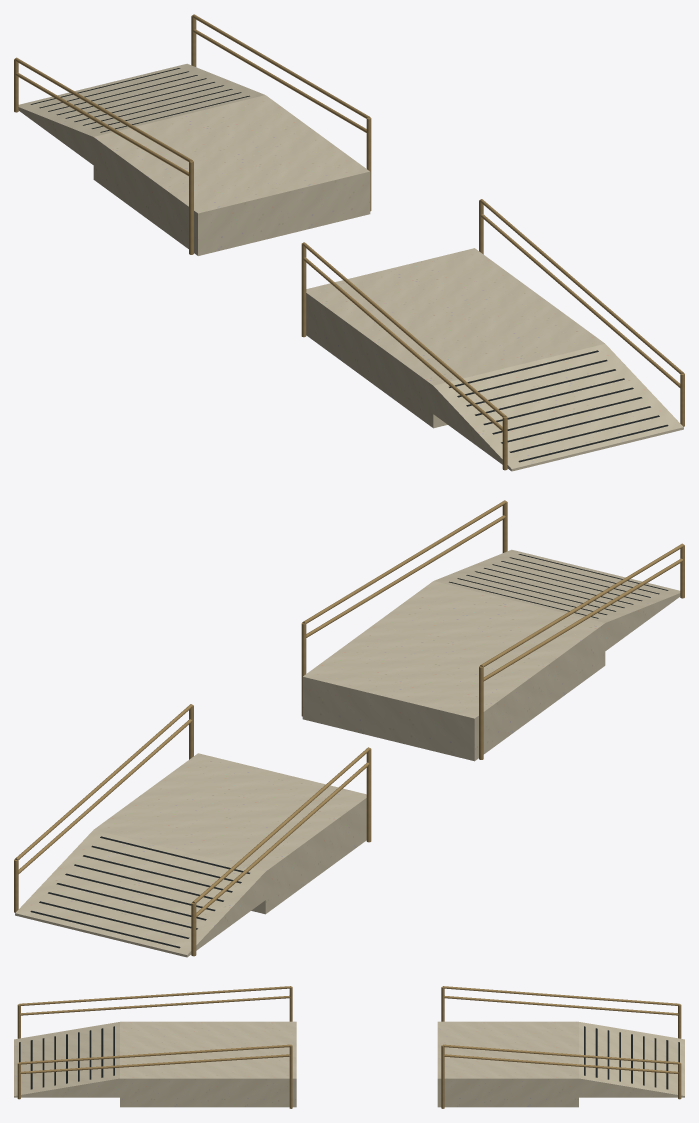
Rendered from Group6ThermalEntries_03_r002.glb.
The picture shows the model from 3 angles, top to bottom: view 1: azimuth 30°, elevation 25°; view 2: azimuth 150°, elevation 25°; view 3: azimuth 270°, elevation 25°; orthographic projection. The views are drawn at different scales.
Parts seen in each view (by area): view 1: G6_THERMAL_03__entry_0_dry_bridge, G6_THERMAL_03__entry_1_dry_bridge, G6_THERMAL_03__entry_1_continuous_path, G6_THERMAL_03__entry_0_continuous_path, G6_THERMAL_03__entry_1_handrail_-1_1.05, G6_THERMAL_03__entry_1_handrail_1_1.05, G6_THERMAL_03__entry_1_handrail_1_0.75, G6_THERMAL_03__entry_1_handrail_-1_0.75, G6_THERMAL_03__entry_0_handrail_1_1.05, G6_THERMAL_03__entry_0_handrail_-1_1.05, G6_THERMAL_03__entry_0_handrail_1_0.75, G6_THERMAL_03__entry_0_handrail_-1_0.75; view 2: G6_THERMAL_03__entry_1_dry_bridge, G6_THERMAL_03__entry_0_dry_bridge, G6_THERMAL_03__entry_0_continuous_path, G6_THERMAL_03__entry_1_continuous_path, G6_THERMAL_03__entry_1_handrail_-1_1.05, G6_THERMAL_03__entry_1_handrail_1_1.05, G6_THERMAL_03__entry_1_handrail_-1_0.75, G6_THERMAL_03__entry_1_handrail_1_0.75, G6_THERMAL_03__entry_0_handrail_-1_1.05, G6_THERMAL_03__entry_0_handrail_1_1.05, G6_THERMAL_03__entry_0_handrail_-1_0.75, G6_THERMAL_03__entry_0_handrail_1_0.75; view 3: G6_THERMAL_03__entry_1_dry_bridge, G6_THERMAL_03__entry_0_dry_bridge, G6_THERMAL_03__entry_1_continuous_path, G6_THERMAL_03__entry_0_continuous_path, G6_THERMAL_03__entry_1_handrail_1_1.05, G6_THERMAL_03__entry_1_handrail_-1_1.05, G6_THERMAL_03__entry_1_handrail_-1_0.75, G6_THERMAL_03__entry_1_handrail_1_0.75, G6_THERMAL_03__entry_0_handrail_1_1.05, G6_THERMAL_03__entry_0_handrail_-1_1.05, G6_THERMAL_03__entry_0_handrail_-1_0.75, G6_THERMAL_03__entry_0_handrail_1_0.75 (+2 smaller).
Part boxes in pixels (x1,y1,x2,y2): G6_THERMAL_03__entry_0_dry_bridge: (93,95,370,255); G6_THERMAL_03__entry_1_dry_bridge: (306,248,604,428); G6_THERMAL_03__entry_1_continuous_path: (433,344,683,471); G6_THERMAL_03__entry_0_continuous_path: (18,63,264,164); G6_THERMAL_03__entry_1_handrail_-1_1.05: (302,242,506,417); G6_THERMAL_03__entry_1_handrail_1_1.05: (480,199,683,374); G6_THERMAL_03__entry_1_handrail_1_0.75: (480,214,680,387); G6_THERMAL_03__entry_1_handrail_-1_0.75: (303,257,502,431); G6_THERMAL_03__entry_0_handrail_1_1.05: (192,14,370,118); G6_THERMAL_03__entry_0_handrail_-1_1.05: (14,57,192,161); G6_THERMAL_03__entry_0_handrail_1_0.75: (193,29,366,132); G6_THERMAL_03__entry_0_handrail_-1_0.75: (15,72,188,175); G6_THERMAL_03__entry_1_dry_bridge: (302,581,605,761); G6_THERMAL_03__entry_0_dry_bridge: (94,753,366,914); G6_THERMAL_03__entry_0_continuous_path: (15,829,265,957); G6_THERMAL_03__entry_1_continuous_path: (434,549,680,650); G6_THERMAL_03__entry_1_handrail_-1_1.05: (480,543,684,666); G6_THERMAL_03__entry_1_handrail_1_1.05: (302,500,506,623); G6_THERMAL_03__entry_1_handrail_-1_0.75: (483,558,683,681); G6_THERMAL_03__entry_1_handrail_1_0.75: (306,515,505,637); G6_THERMAL_03__entry_0_handrail_-1_1.05: (192,747,370,903); G6_THERMAL_03__entry_0_handrail_1_1.05: (15,704,192,860); G6_THERMAL_03__entry_0_handrail_-1_0.75: (196,762,369,917); G6_THERMAL_03__entry_0_handrail_1_0.75: (18,719,192,873); G6_THERMAL_03__entry_1_dry_bridge: (120,1021,296,1107); G6_THERMAL_03__entry_0_dry_bridge: (437,1021,578,1107); G6_THERMAL_03__entry_1_continuous_path: (14,1022,119,1097); G6_THERMAL_03__entry_0_continuous_path: (579,1022,684,1097); G6_THERMAL_03__entry_1_handrail_1_1.05: (19,1044,291,1064); G6_THERMAL_03__entry_1_handrail_-1_1.05: (19,986,291,1005); G6_THERMAL_03__entry_1_handrail_-1_0.75: (20,995,290,1015); G6_THERMAL_03__entry_1_handrail_1_0.75: (20,1054,289,1073); G6_THERMAL_03__entry_0_handrail_1_1.05: (443,1044,679,1064); G6_THERMAL_03__entry_0_handrail_-1_1.05: (443,986,679,1005); G6_THERMAL_03__entry_0_handrail_-1_0.75: (444,996,678,1015); G6_THERMAL_03__entry_0_handrail_1_0.75: (444,1054,678,1073).
Bounding box in the file's own units: 4.01 × 1.98 × 19.
Materials: 3 (3 with a texture image).
